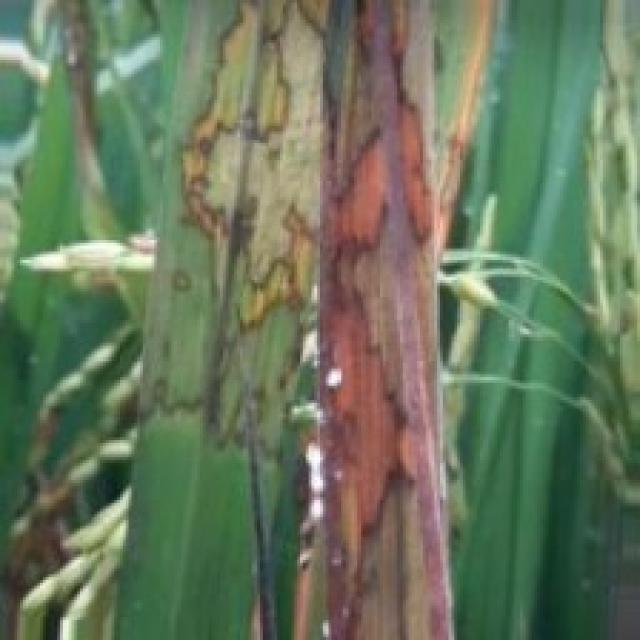Bacterial_Blight: (291, 0, 456, 640), (159, 0, 337, 341)
